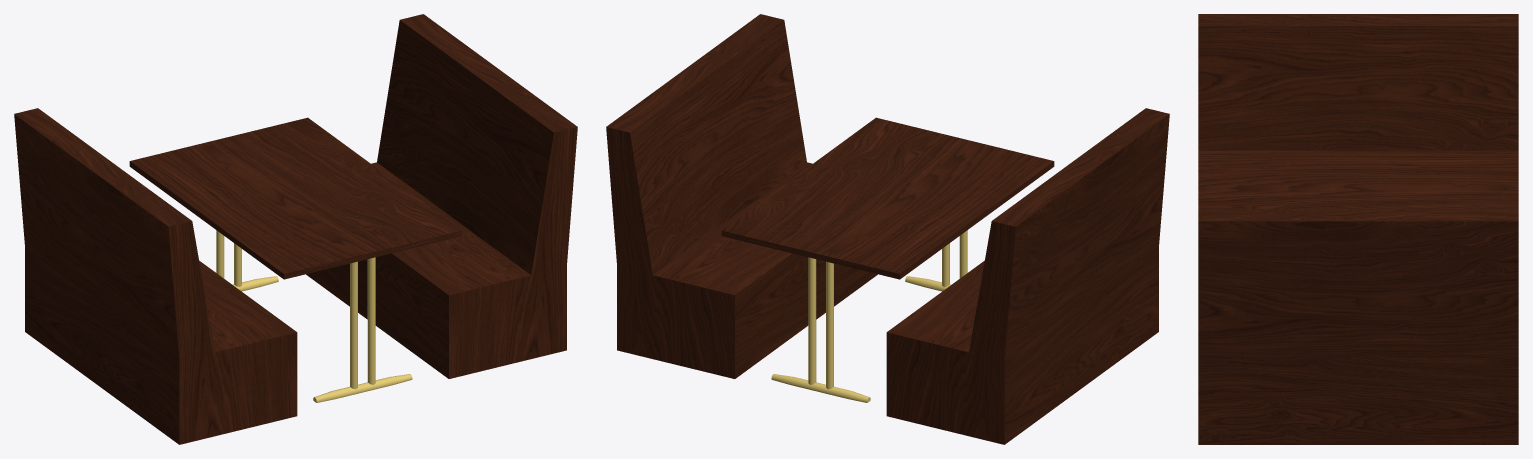
File: window-seats.fbx
3 renders of one model, left to right at view 1: azimuth 30°, elevation 25°; view 2: azimuth 150°, elevation 25°; view 3: azimuth 270°, elevation 25°, orthographic. The views are drawn at different scales.
Parts seen in each view (by area): view 1: sofa, sofa.001, table_low, brass-leg.001, brass-leg; view 2: sofa, sofa.001, table_low, brass-leg, brass-leg.001; view 3: sofa, sofa.001, table_low.
Part boxes in pixels (left/top/right/bottom): sofa: left=306, top=14, right=577, bottom=378; sofa.001: left=14, top=108, right=297, bottom=444; table_low: left=129, top=117, right=462, bottom=279; brass-leg.001: left=313, top=257, right=412, bottom=402; brass-leg: left=216, top=230, right=278, bottom=291; sofa: left=606, top=14, right=877, bottom=378; sofa.001: left=886, top=108, right=1169, bottom=444; table_low: left=721, top=117, right=1054, bottom=279; brass-leg: left=771, top=257, right=870, bottom=402; brass-leg.001: left=905, top=230, right=967, bottom=291; sofa: left=1198, top=209, right=1518, bottom=444; sofa.001: left=1198, top=14, right=1518, bottom=150; table_low: left=1198, top=150, right=1518, bottom=209.
Size of the model in its own units: 2.3 by 1.18 by 1.5.
